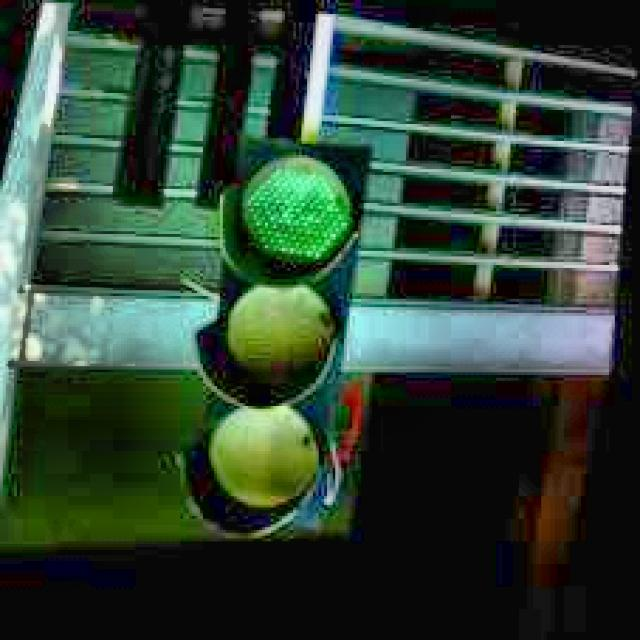green: (154, 120, 410, 545)
